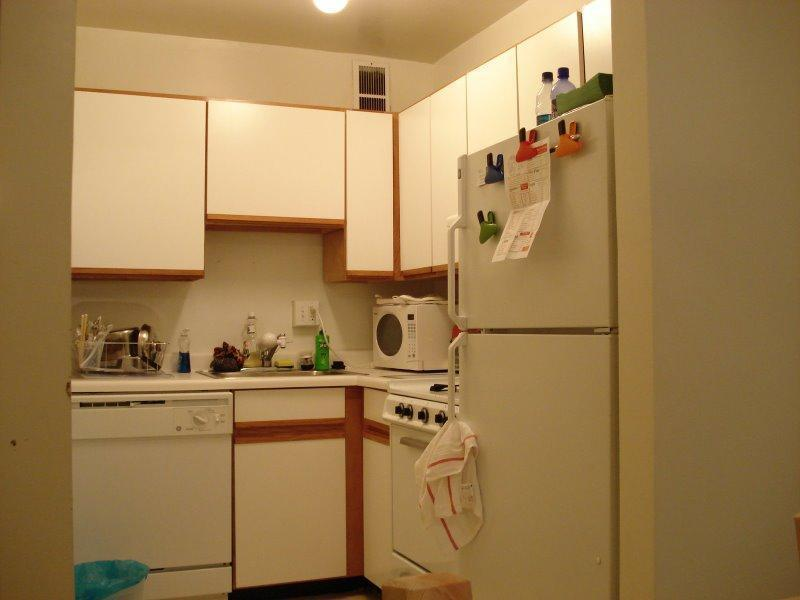Bote de Basura: (81, 555, 149, 597)
Electrodomestico: (459, 159, 617, 595), (76, 388, 231, 593), (390, 387, 455, 584)
